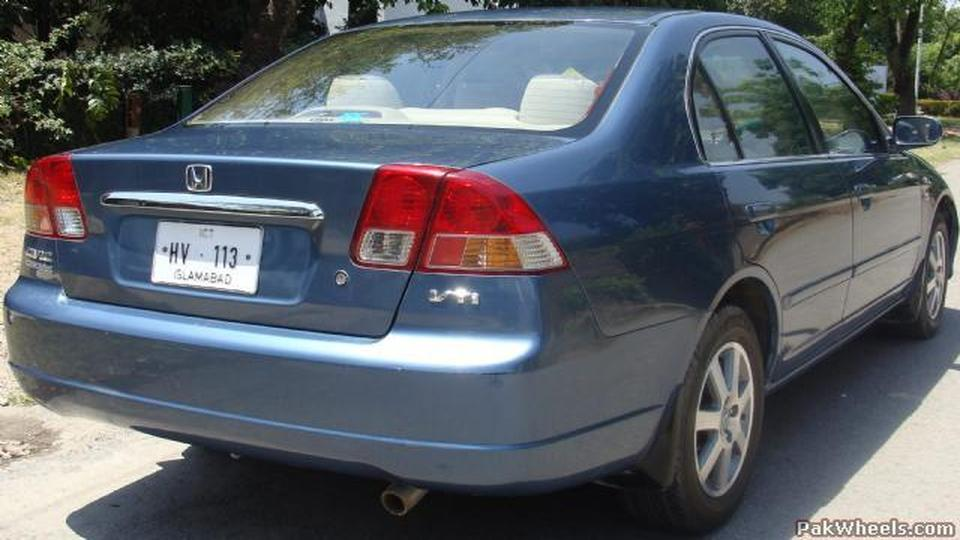NumberPlate: (138, 198, 268, 296)
